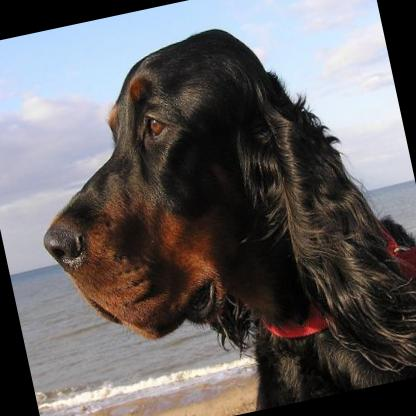Gordon_setter: (5, 0, 416, 416)
